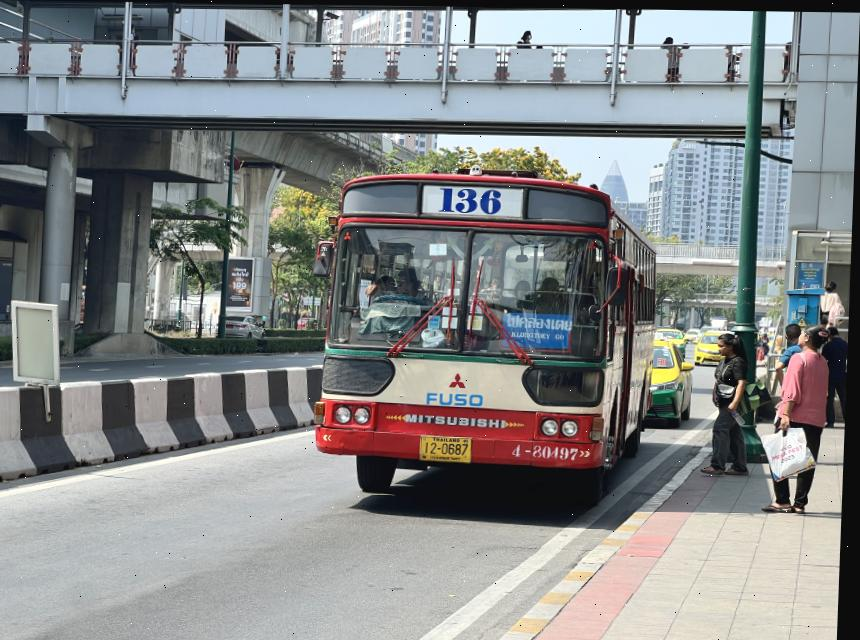BMTA-bus: (317, 172, 659, 495)
Bus Line Number: (422, 182, 528, 219)
Bus Side Number: (512, 439, 584, 462)
Destination Sign: (501, 309, 579, 349)
